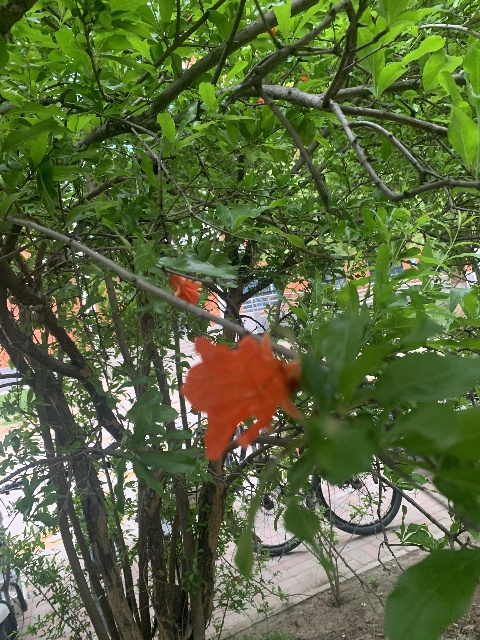flower: (180, 332, 302, 460), (167, 273, 201, 304), (257, 98, 264, 103)
